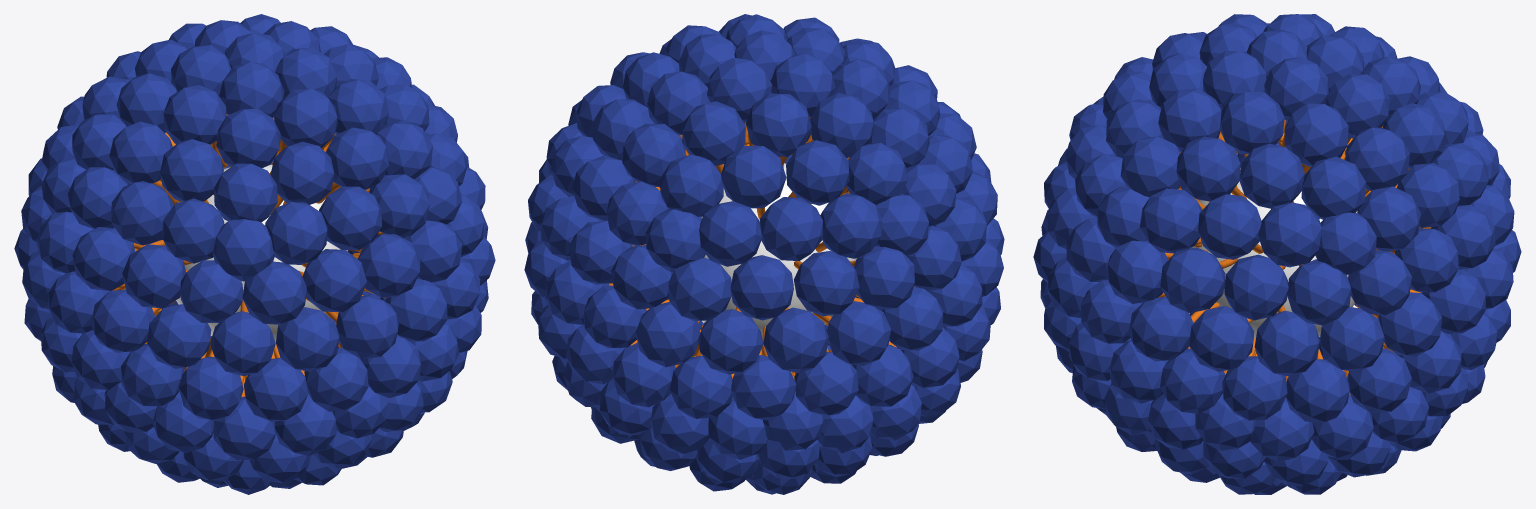
Rendered from micelleExport.glb.
The picture shows the model from 3 angles, left to right: view 1: azimuth 30°, elevation 25°; view 2: azimuth 150°, elevation 25°; view 3: azimuth 270°, elevation 25°; orthographic projection.
Parts seen in each view (by area): view 1: headsRight, headsLeft, tailsRight, contaminant; view 2: headsLeft, headsRight, contaminant, tailsLeft; view 3: headsRight, headsLeft, contaminant, tailsRight.
Part boxes in pixels (x1,y1,x2,y2): headsRight: (71,44,495,494); headsLeft: (14,14,434,451); tailsRight: (133,133,386,396); contaminant: (176,164,347,342); headsLeft: (524,30,982,494); headsRight: (610,14,1004,455); contaminant: (701,163,856,337); tailsLeft: (609,117,896,379); headsRight: (1033,14,1314,494); headsLeft: (1237,14,1521,494); contaminant: (1190,168,1357,337); tailsRight: (1158,131,1294,381).
Size of the model in its own units: 2.14 by 2.15 by 2.14.
